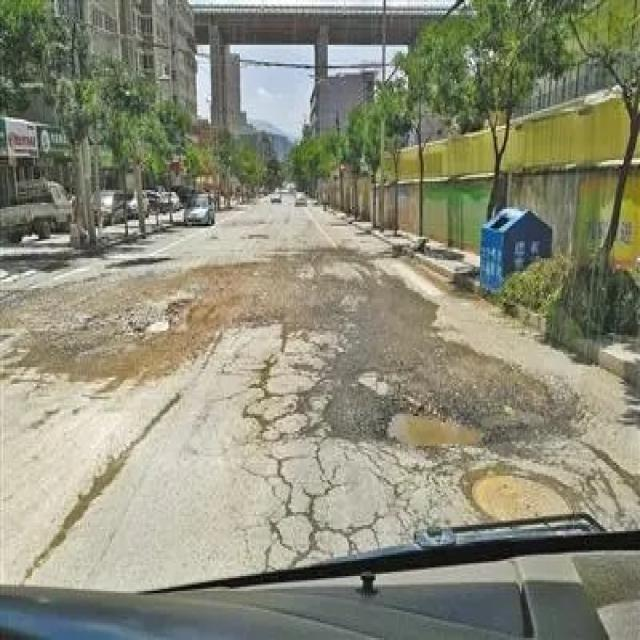Pothole: (456, 465, 576, 533), (366, 405, 494, 450), (115, 299, 205, 341)
